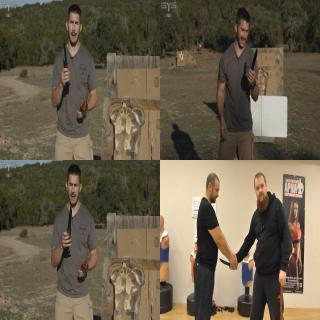knife: (61, 202, 73, 246), (60, 35, 70, 83), (247, 45, 259, 81), (218, 256, 238, 270)
